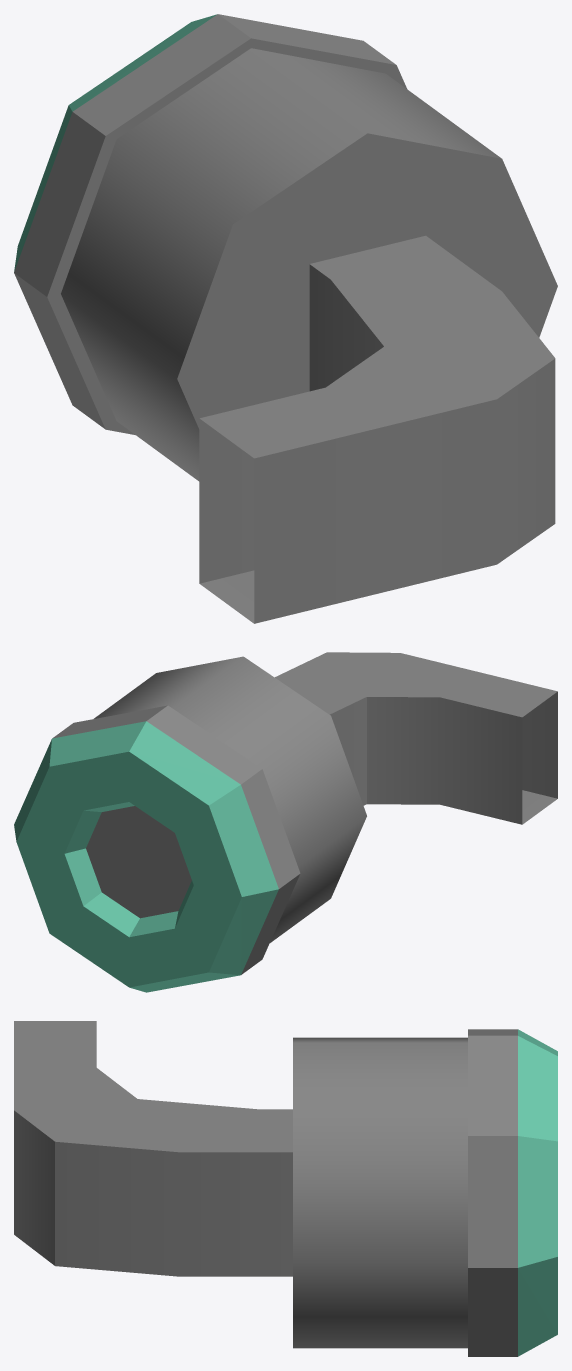
The model's file is rod_consol_2.FBX.
3 views of the same model, one above another, from view 1: azimuth 30°, elevation 25°; view 2: azimuth 150°, elevation 25°; view 3: azimuth 270°, elevation 25° (orthographic). The views are drawn at different scales.
Visible parts, largest first — view 1: rod_consol_2; view 2: rod_consol_2; view 3: rod_consol_2.
Boxes of the visible parts, x1,y1,x2,y2 form: rod_consol_2: (14, 14, 557, 623); rod_consol_2: (14, 652, 557, 992); rod_consol_2: (14, 1021, 557, 1356).
Bounding box in the file's own units: 4.66 × 3.7 × 5.8.
